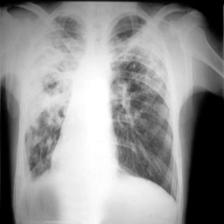tuberculosis: (16, 5, 182, 206)
